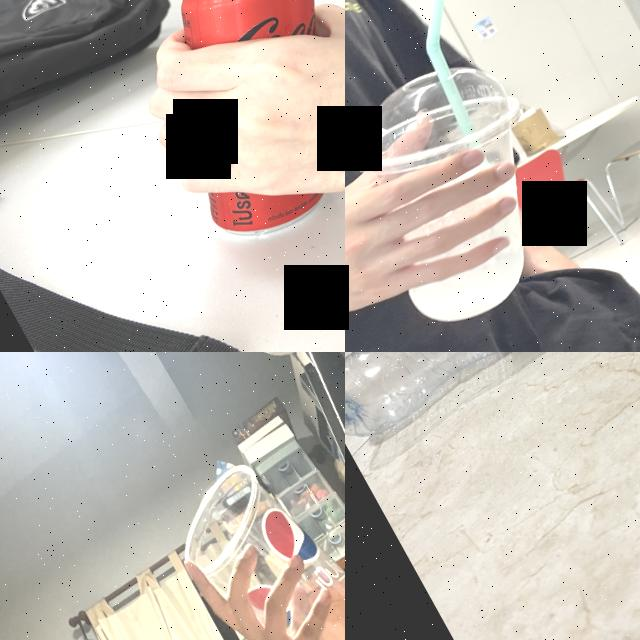bottle: (345, 352, 640, 452)
can: (101, 0, 345, 262)
cup: (345, 35, 604, 342), (156, 437, 345, 640)
